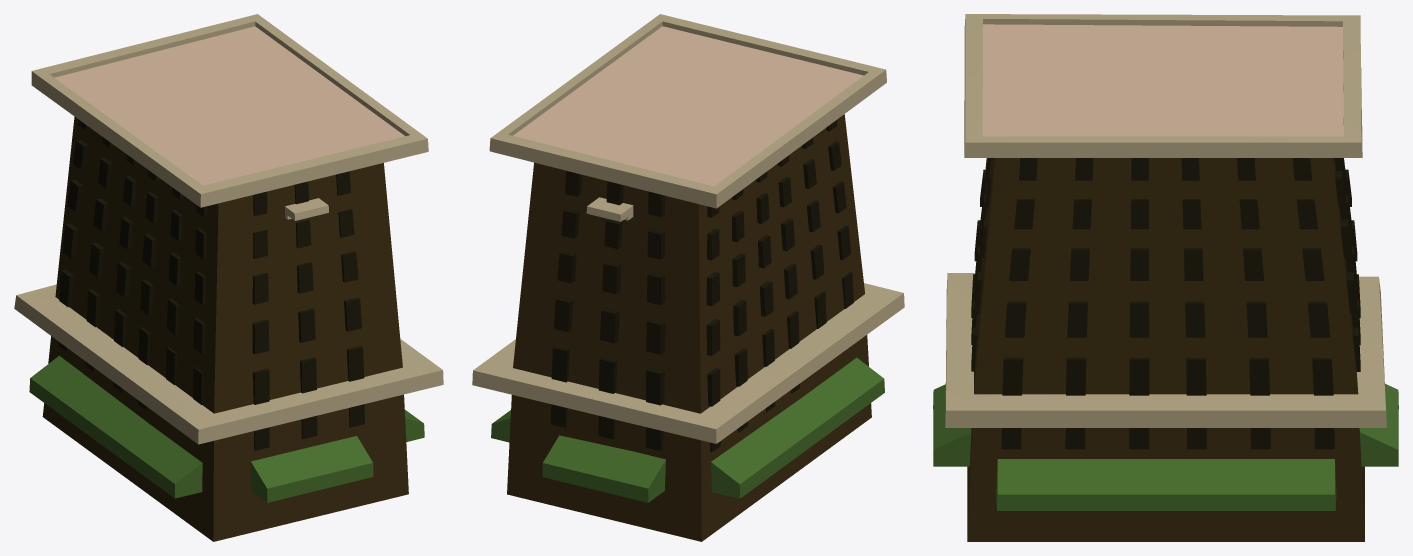
Rendered from buildingB.fbx.
3 renders of one model, left to right at view 1: azimuth 30°, elevation 25°; view 2: azimuth 150°, elevation 25°; view 3: azimuth 270°, elevation 25°, orthographic. The views are drawn at different scales.
Visible parts, largest first — view 1: polySurface74; view 2: polySurface74; view 3: polySurface74.
Part boxes in pixels (x1,y1,x2,y2): polySurface74: (14,14,443,541); polySurface74: (472,14,904,541); polySurface74: (933,14,1398,541).
Bounding box in the file's own units: 535 × 721 × 741.
